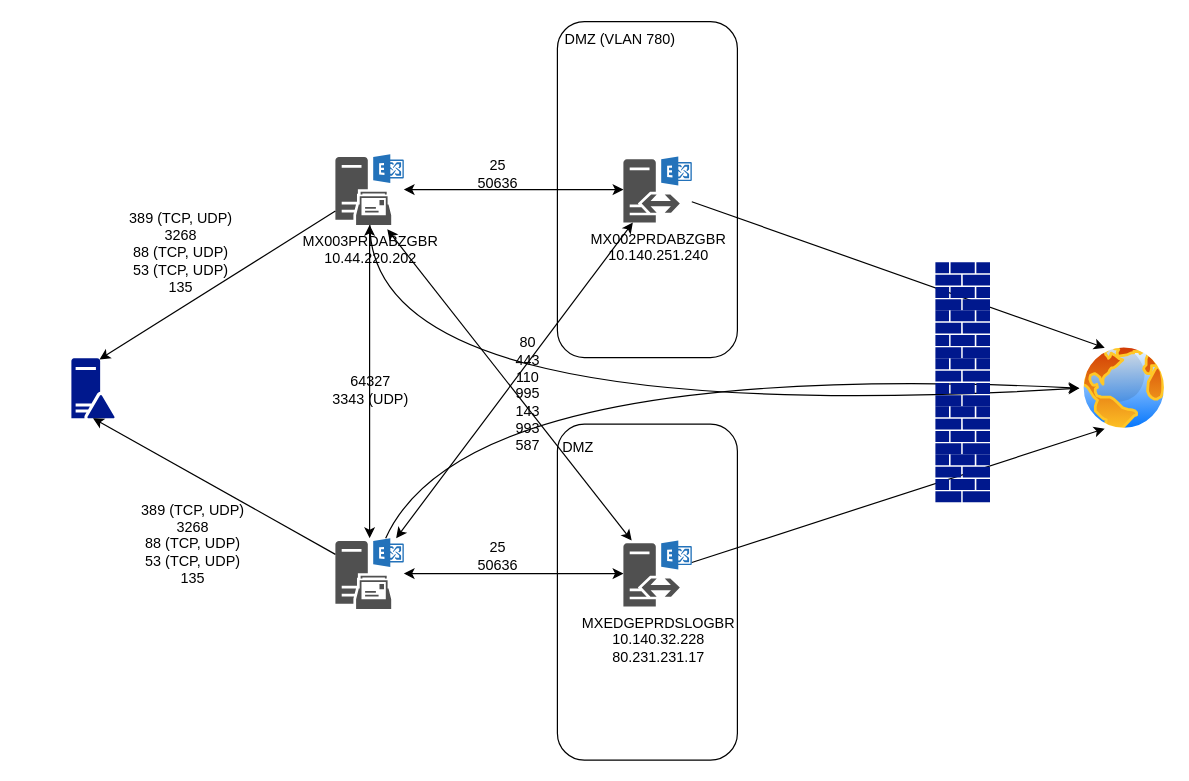
This 1189x781 diagram has some shape labels left out. Here are the shapes that lost their labels. From the top down, the box of each, then its label:
(71, 358, 114, 418): Domain Controllers ADC001PRDABZGBR ADC002PRDABZGBR
(335, 538, 403, 608): MSX001PRDSLOGBR 10.140.16.166
